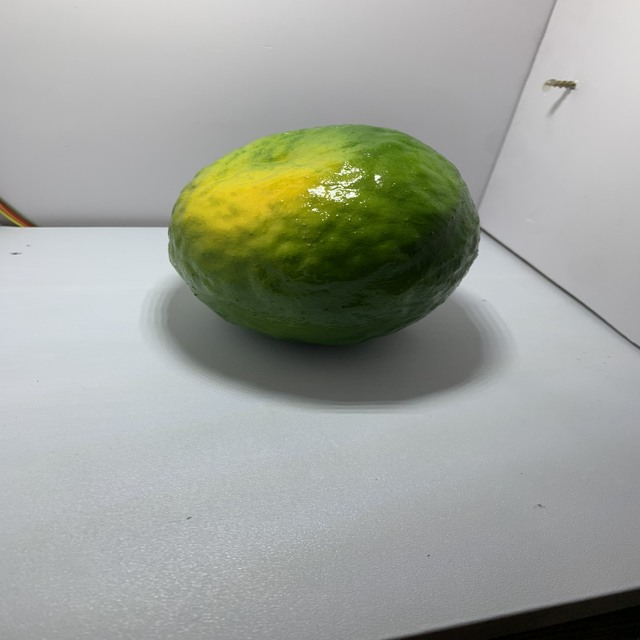Cam xanh: (164, 117, 491, 352)
